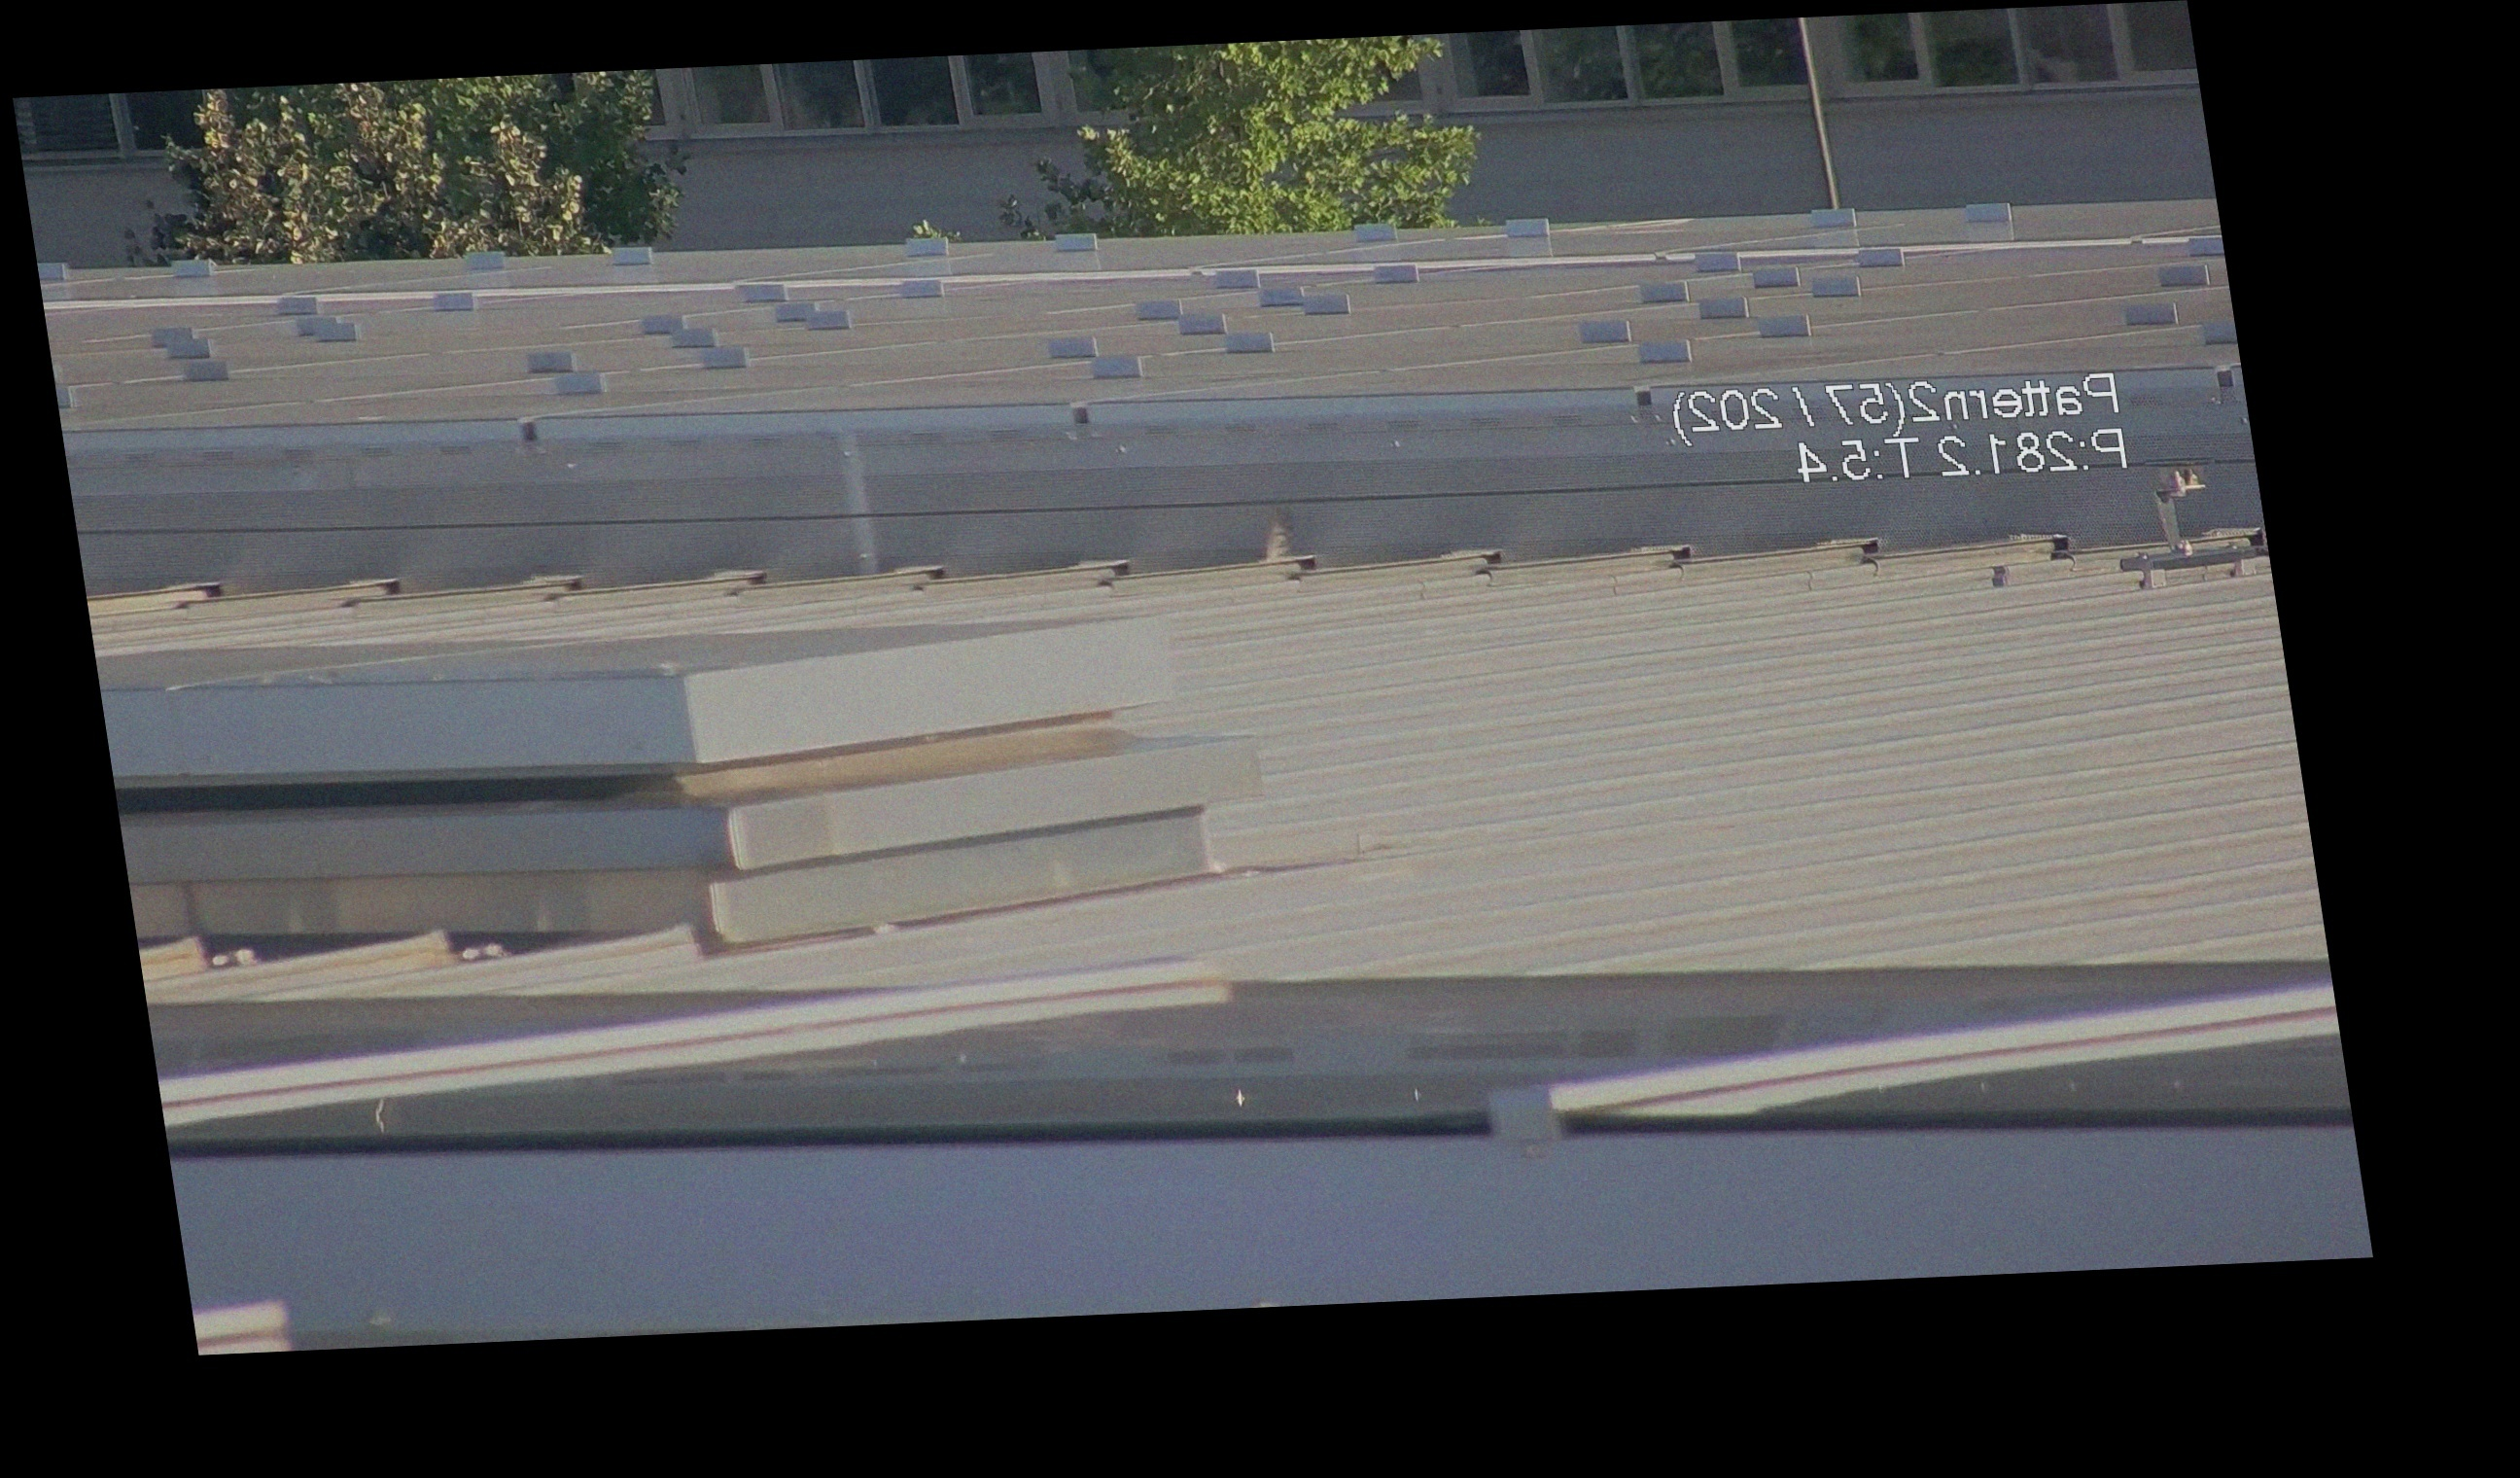Other: (1254, 494, 1328, 582)
